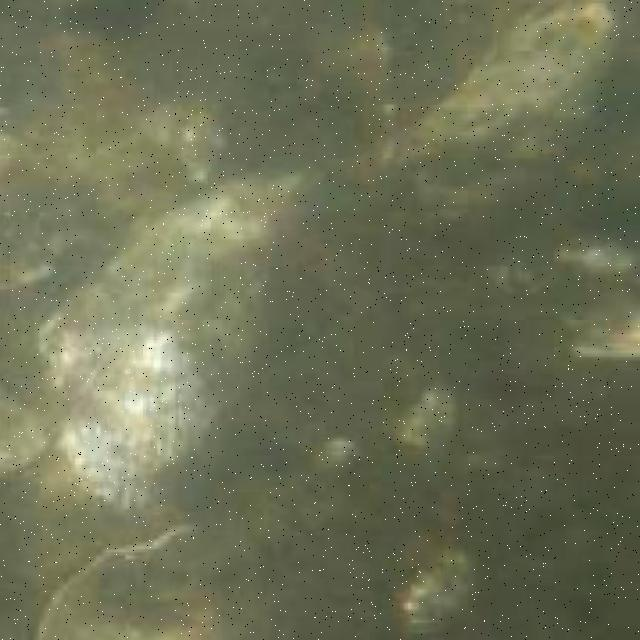Oyster-Closed: (63, 149, 309, 512), (372, 0, 623, 219), (43, 467, 356, 640)
